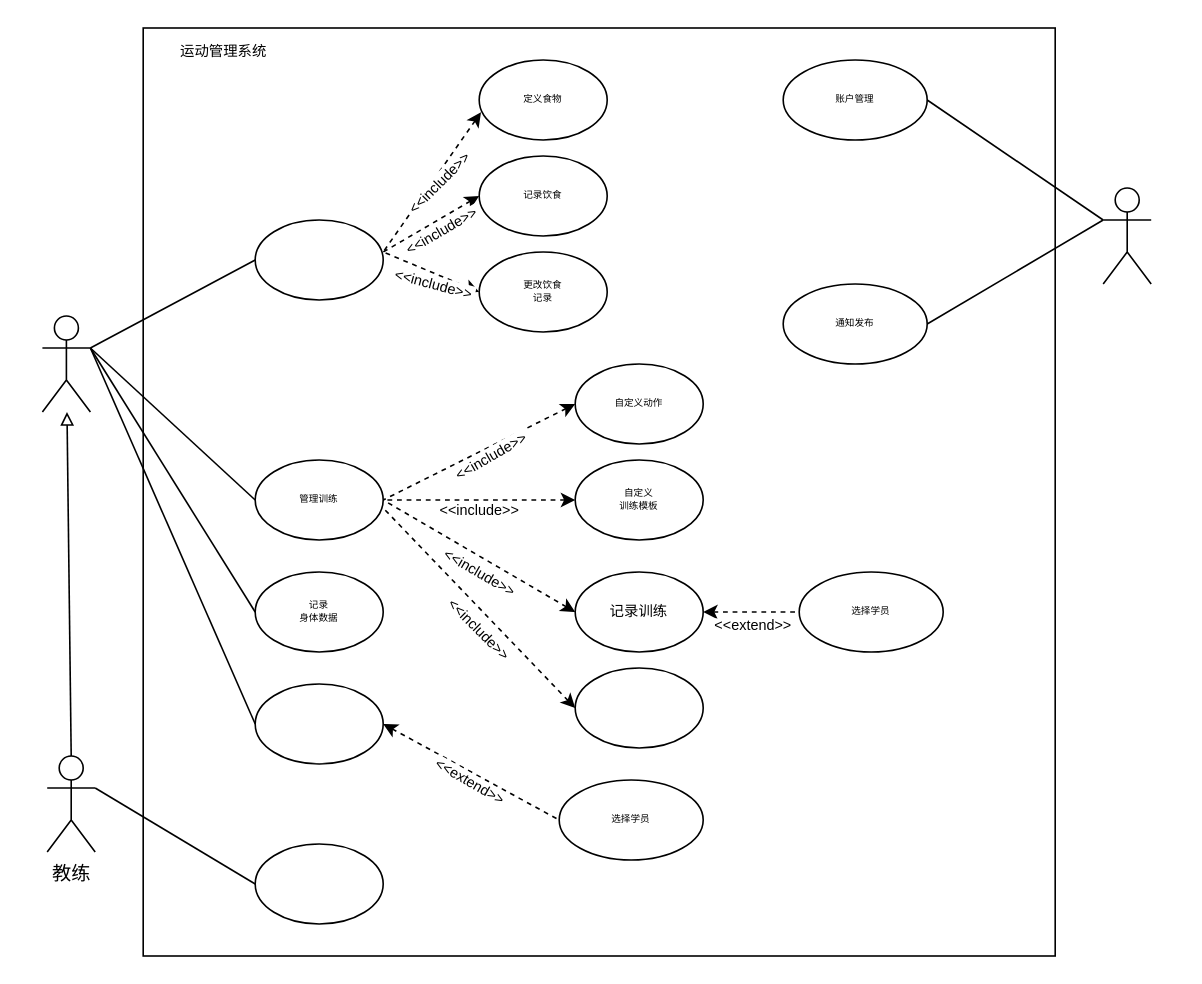
Image size: 1202x984. Some labels were removed from this diagram. The box of each missing label's shape, as (x1, y1, x2, y2) in pixels:
普通用户: (41, 314, 90, 412)
更改训练 记录: (574, 666, 703, 748)
查看统计 信息: (254, 682, 383, 764)
添加学员: (254, 842, 383, 924)
管理饮食: (254, 218, 383, 300)
系统管理员: (1102, 186, 1151, 284)
